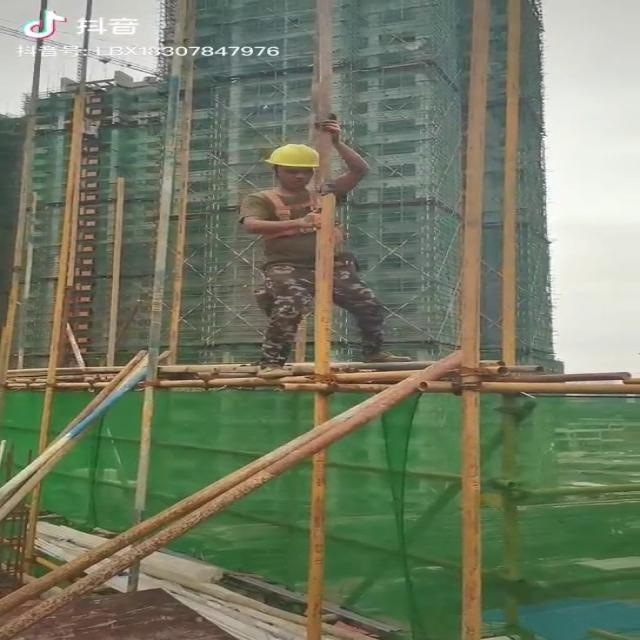Arnes_seguridad: (238, 187, 348, 253)
